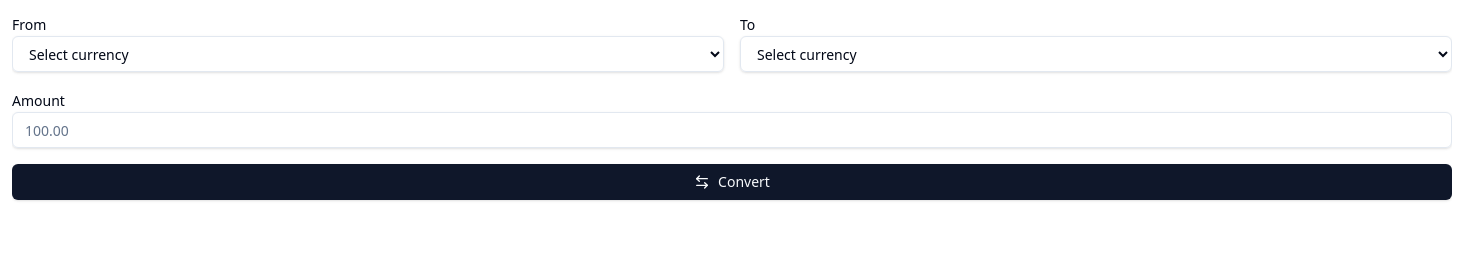
Test case: ConversionForm › validates unselected currency
This screenshot has width=1464, height=274.
Click the button "Convert" at (732, 182), box [12, 164, 1452, 200]
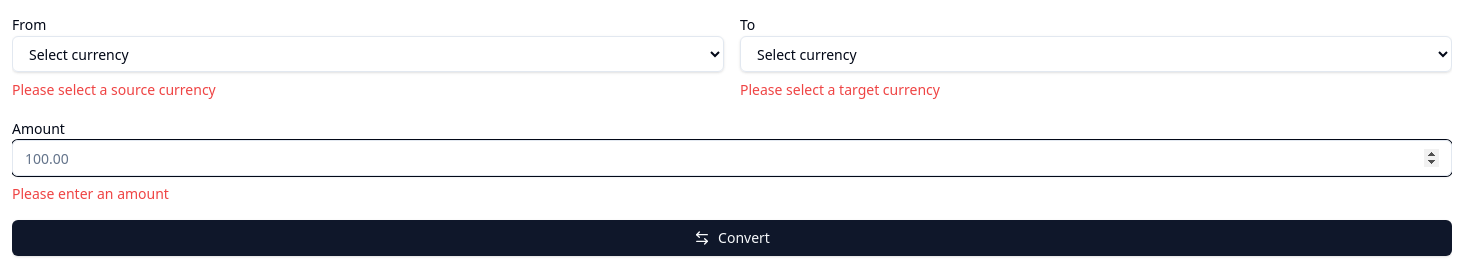
Expected: the text "Please select a source currency" is shown, [12, 80, 216, 99]
